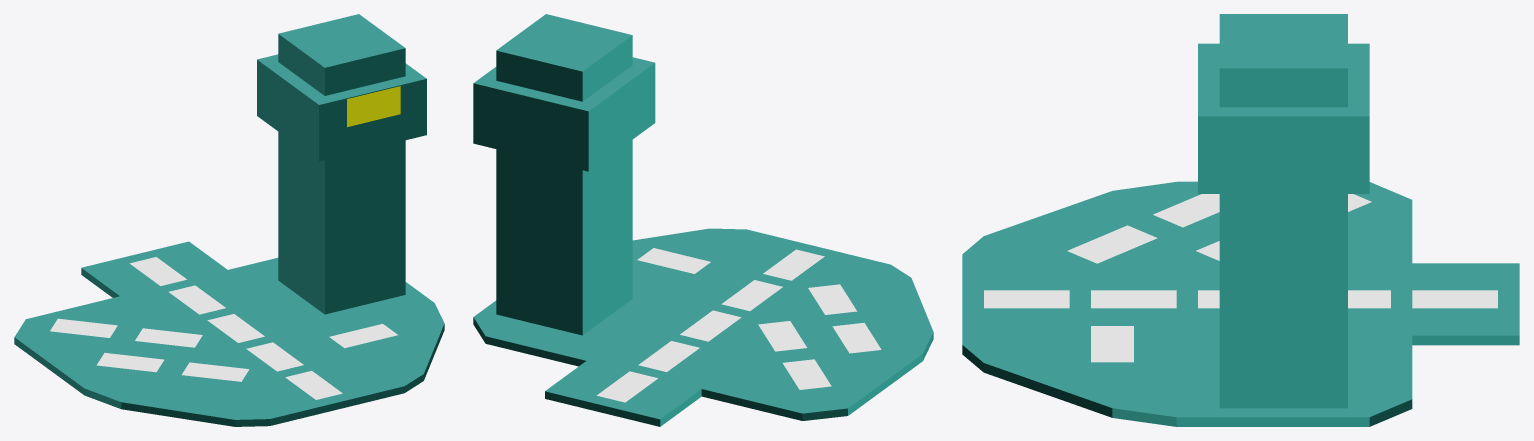
File: Airport.TealGalaxy.glb
3 renders of one model, left to right at view 1: azimuth 30°, elevation 25°; view 2: azimuth 150°, elevation 25°; view 3: azimuth 270°, elevation 25°, orthographic. The views are drawn at different scales.
Visible parts, largest first — view 1: Airport.TealGalaxy; view 2: Airport.TealGalaxy; view 3: Airport.TealGalaxy.
Part boxes in pixels (x1,y1,x2,y2): Airport.TealGalaxy: (14, 14, 444, 426); Airport.TealGalaxy: (473, 14, 933, 426); Airport.TealGalaxy: (962, 14, 1519, 426).
Bounding box in the file's own units: 2.6 × 1.8 × 2.6.
Materials: 2 (1 with a texture image).
